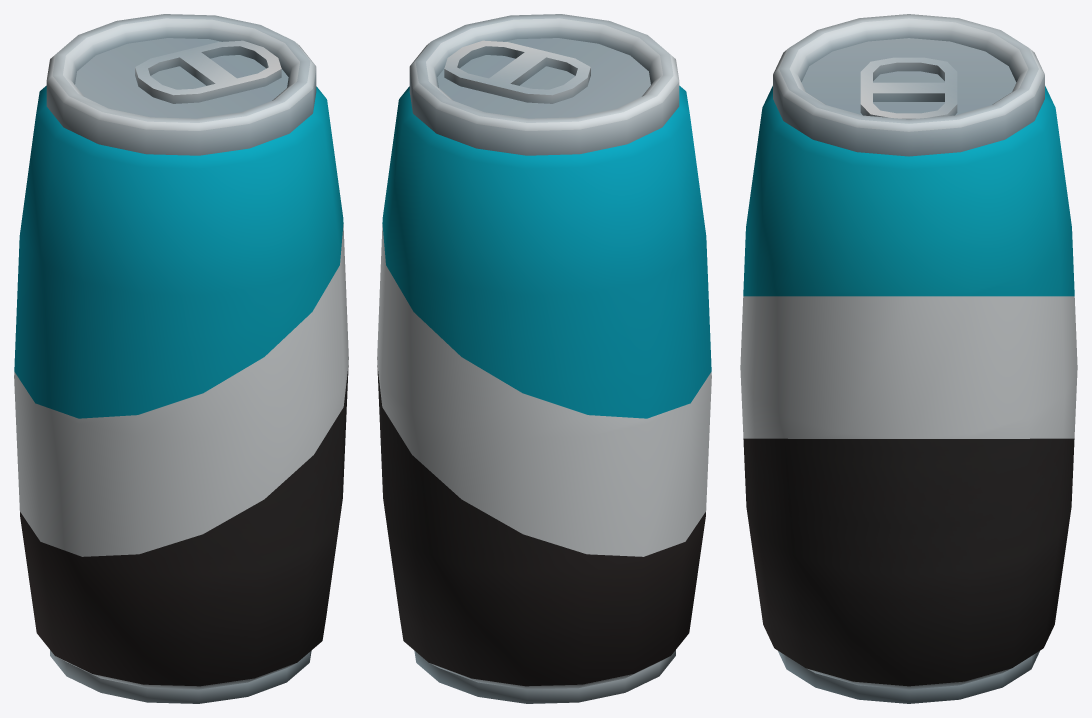
The model's file is can_006.fbx.
The picture shows the model from 3 angles, left to right: view 1: azimuth 30°, elevation 25°; view 2: azimuth 150°, elevation 25°; view 3: azimuth 270°, elevation 25°; orthographic projection.
Parts seen in each view (by area): view 1: can_006; view 2: can_006; view 3: can_006.
Part boxes in pixels (x1,y1,x2,y2): can_006: (14,14,348,703); can_006: (377,14,711,703); can_006: (740,14,1077,703).
Bounding box in the file's own units: 7.64 × 7.64 × 14.6.
